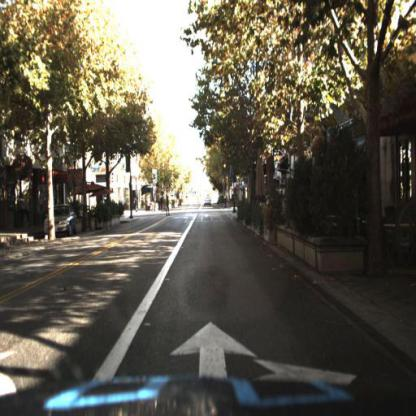car: (45, 202, 82, 237), (44, 201, 78, 237)
pedestrian: (147, 195, 161, 216), (165, 191, 173, 220), (164, 196, 172, 220)
trafficLight-Red: (222, 155, 229, 179)
